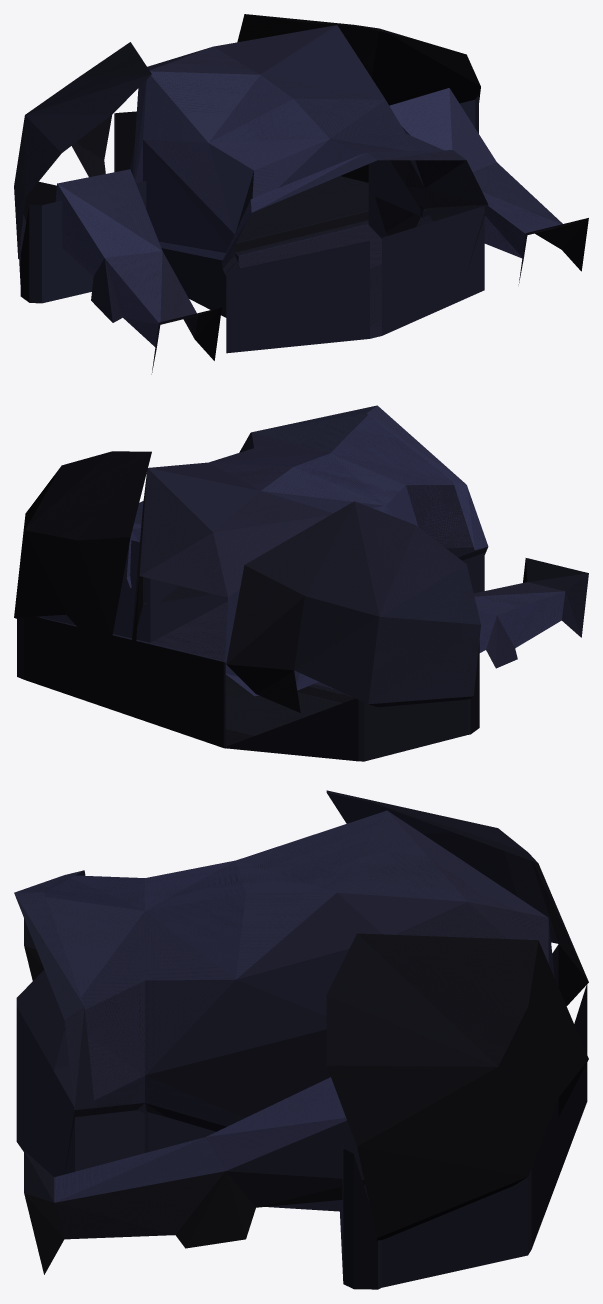
File: mithril-platebody.obj
3 views of the same model, one above another, from view 1: azimuth 30°, elevation 25°; view 2: azimuth 150°, elevation 25°; view 3: azimuth 270°, elevation 25° (orthographic). The views are drawn at different scales.
Visible parts, largest first — view 1: Item Mithril platebody 2026-09-24_18-14-01; view 2: Item Mithril platebody 2026-09-24_18-14-01; view 3: Item Mithril platebody 2026-09-24_18-14-01.
Boxes of the visible parts, <box> form: Item Mithril platebody 2026-09-24_18-14-01: <box>14,14,588,374</box>; Item Mithril platebody 2026-09-24_18-14-01: <box>14,405,588,761</box>; Item Mithril platebody 2026-09-24_18-14-01: <box>14,790,588,1289</box>.
Size of the model in its own units: 72 by 30 by 57.
